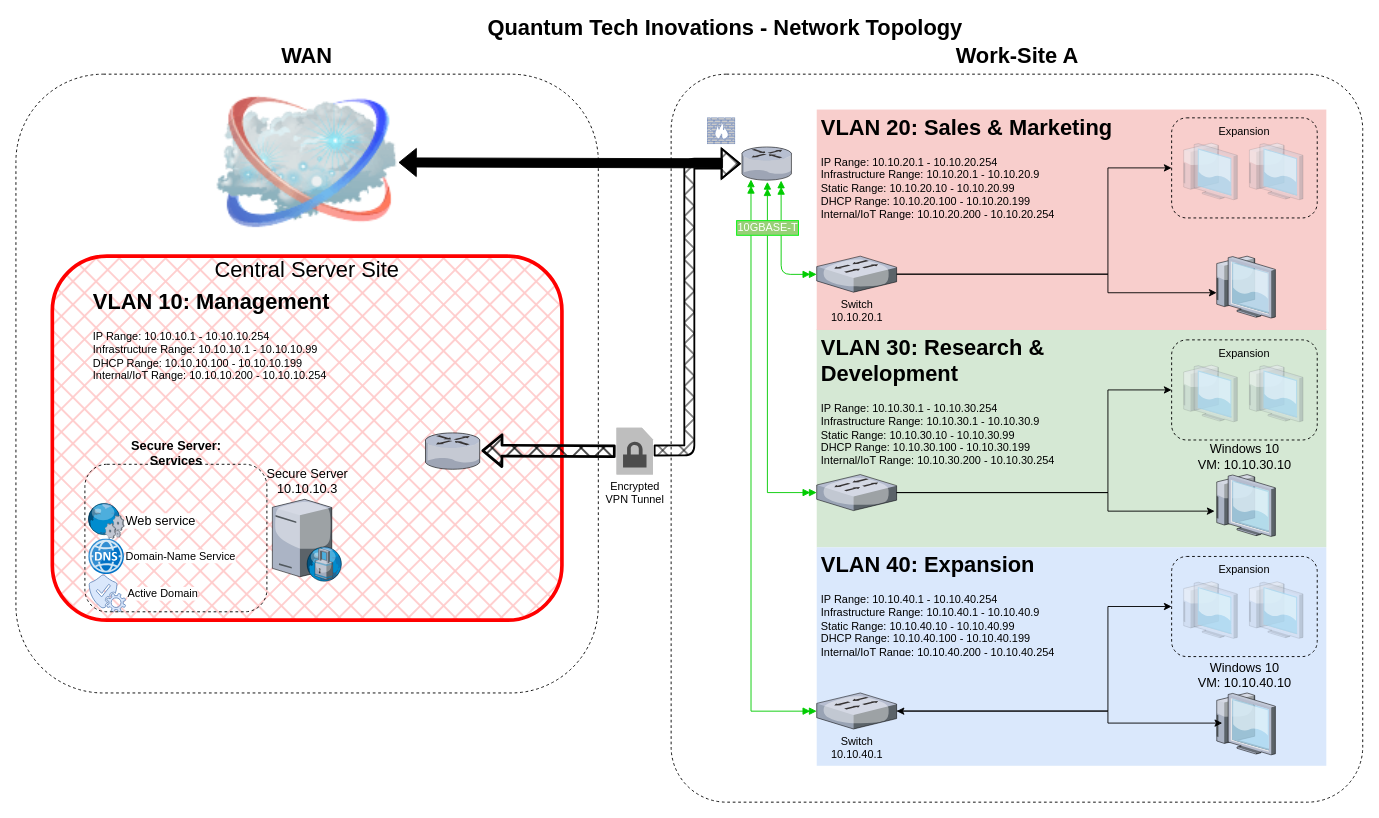
Image size: 1379x818. Some labels were removed from this diagram. Here are the shapes that lost their labels. From the top down, the box of each, then its label:
(215, 96, 398, 228): INTERNET
(741, 147, 792, 180): pfsense 10.10.10.1
(1213, 256, 1275, 318): Windows 10 VM: 10.10.20.10
(425, 432, 480, 469): pfsense 10.10.10.2
(816, 474, 896, 510): Switch 10.10.30.1
